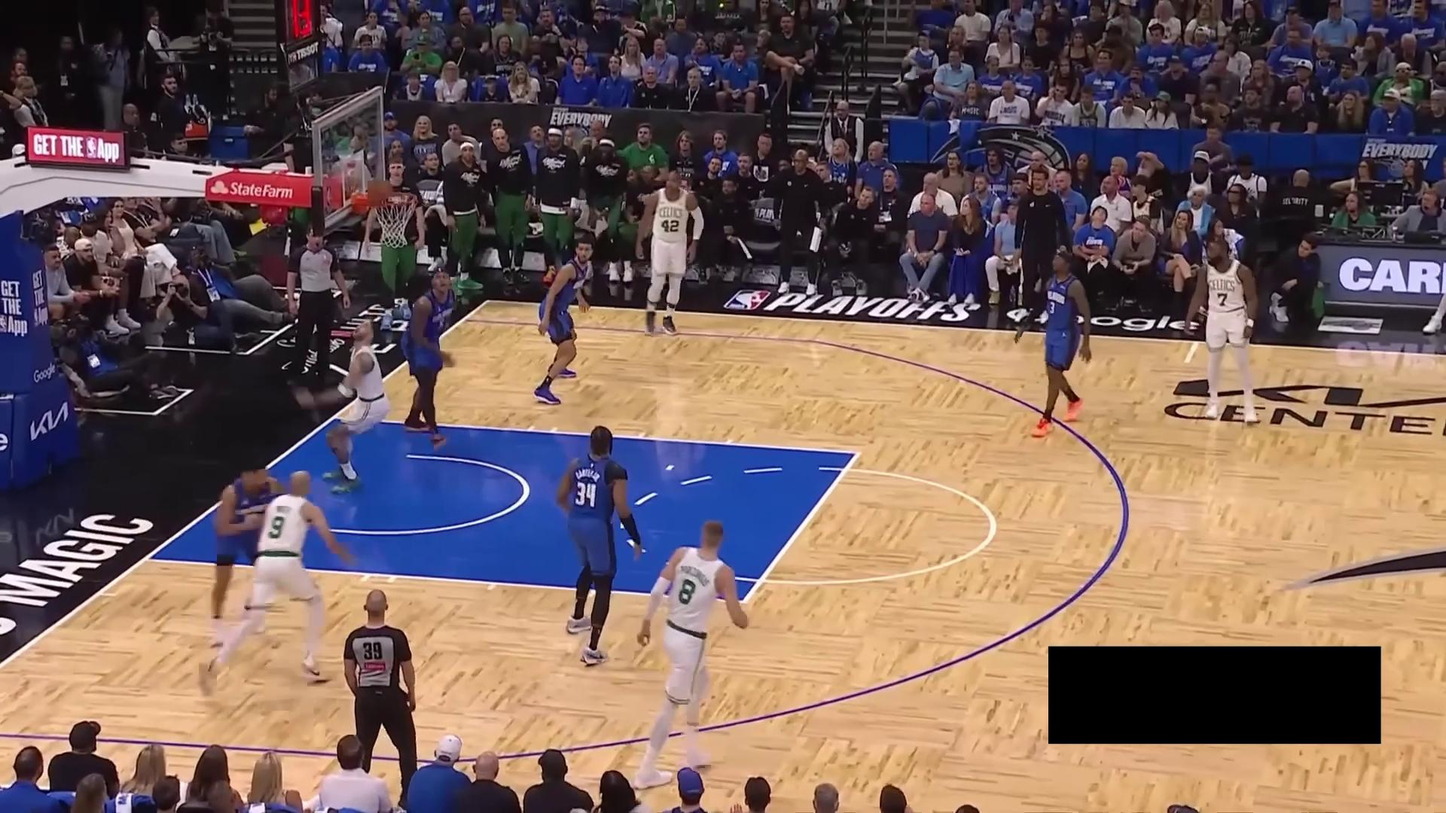ball: (367, 179, 394, 206)
number: (575, 480, 598, 509), (265, 515, 284, 541), (679, 577, 697, 604), (661, 219, 679, 232), (1217, 292, 1228, 306), (1049, 301, 1055, 314)
player: (194, 467, 366, 701), (632, 515, 757, 792), (552, 422, 644, 666), (1004, 246, 1094, 438), (1178, 235, 1263, 426), (209, 454, 285, 653), (318, 318, 391, 496), (524, 231, 598, 406), (395, 265, 461, 453), (633, 166, 705, 336)
referee: (338, 584, 420, 812), (284, 220, 354, 392)
rim: (369, 187, 420, 211)
